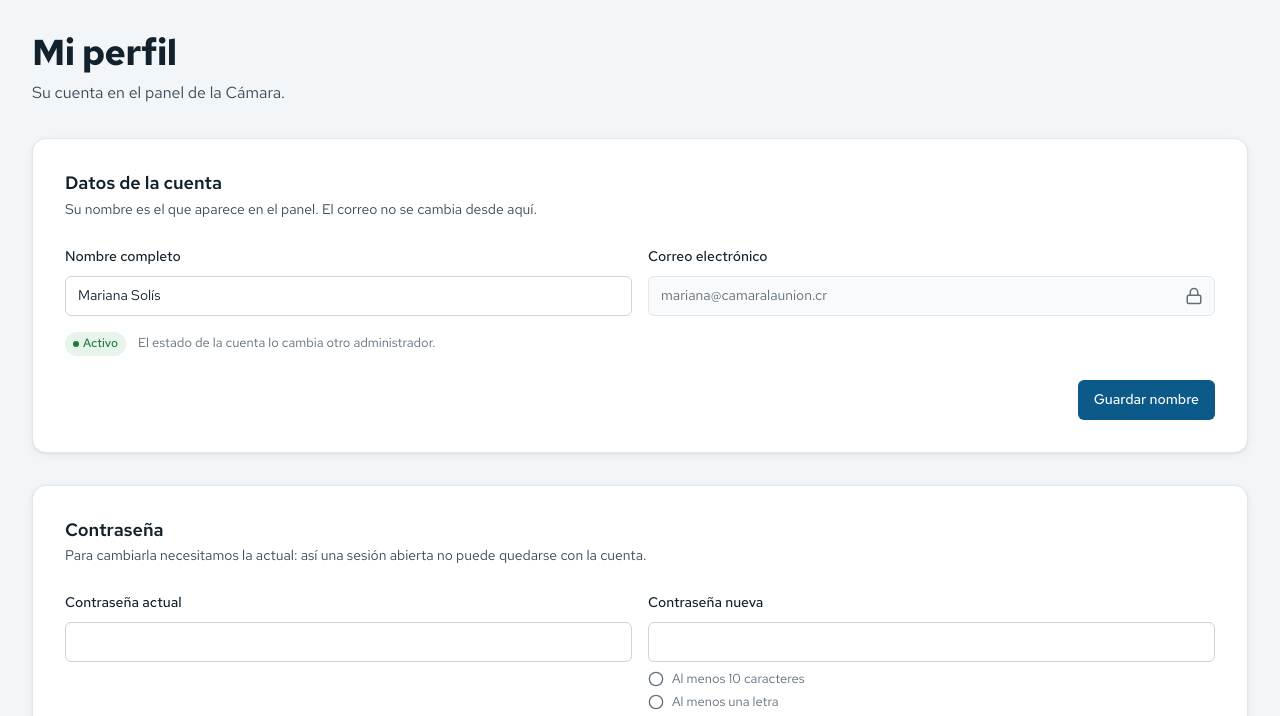
Test: AdminProfilePage › saves the name and confirms with a toast
Replace the text in the field labelled "Nombre completo" with "Mariana Solís Vargas". click: (348,296)
box: left=65, top=276, right=632, bottom=316
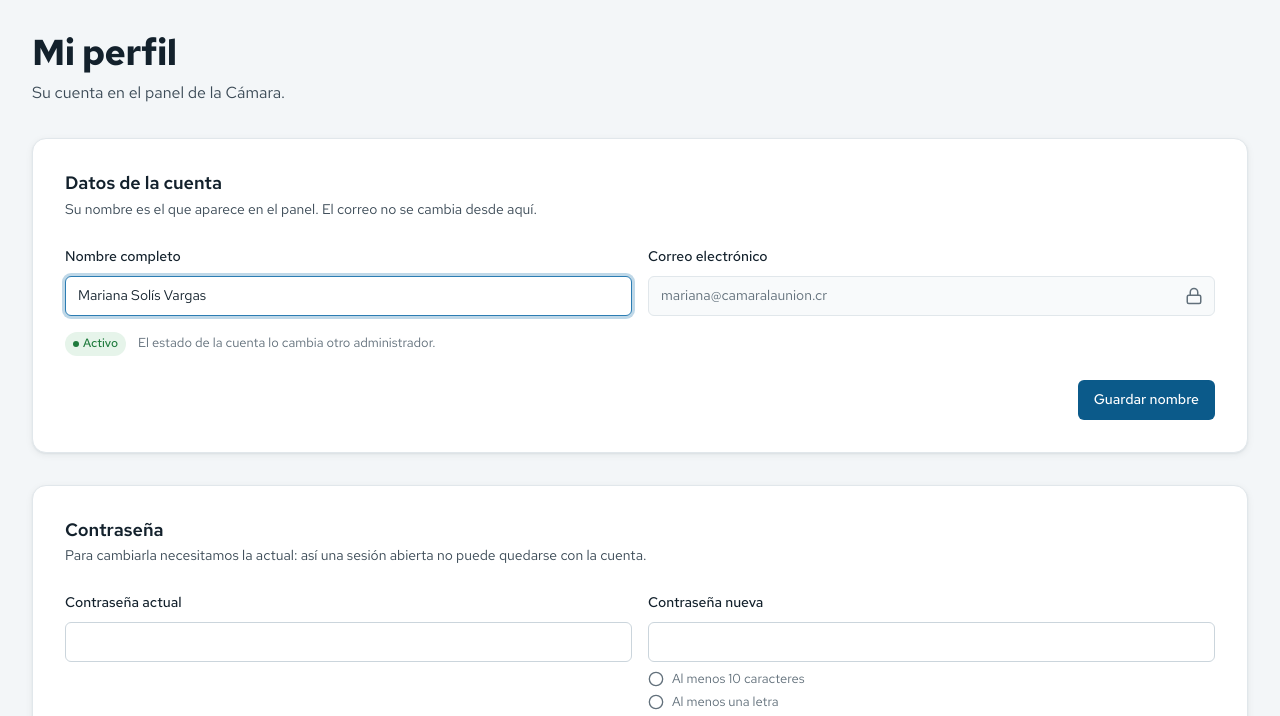
Click the button "Guardar nombre". click: (1146,400)
box: left=1078, top=380, right=1215, bottom=420
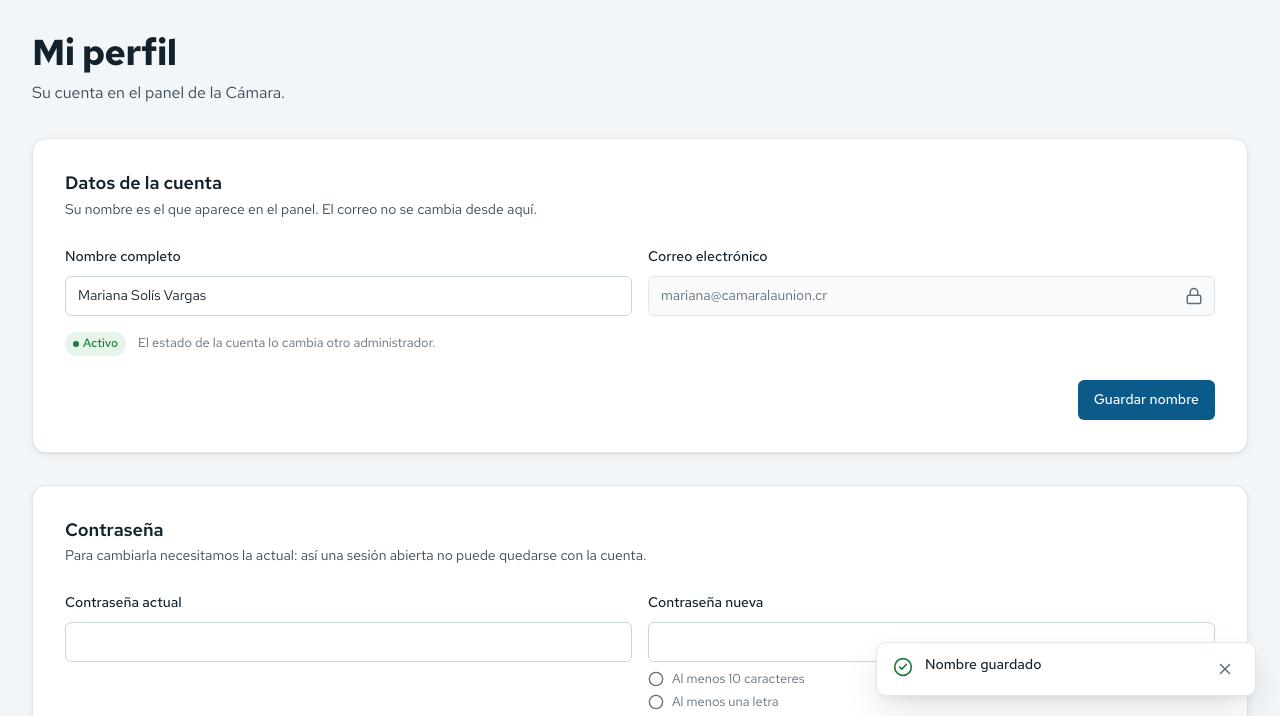
Expected: the text "Nombre guardado" is shown, left=925, top=655, right=1042, bottom=673
